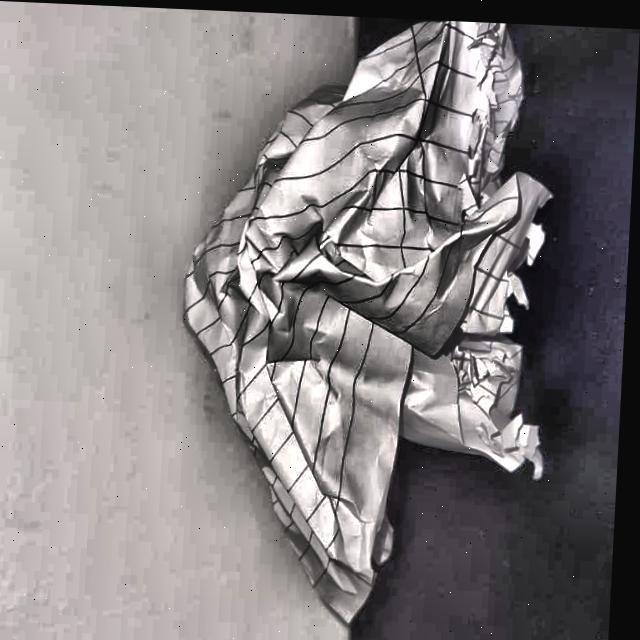paper: (196, 8, 571, 638)
